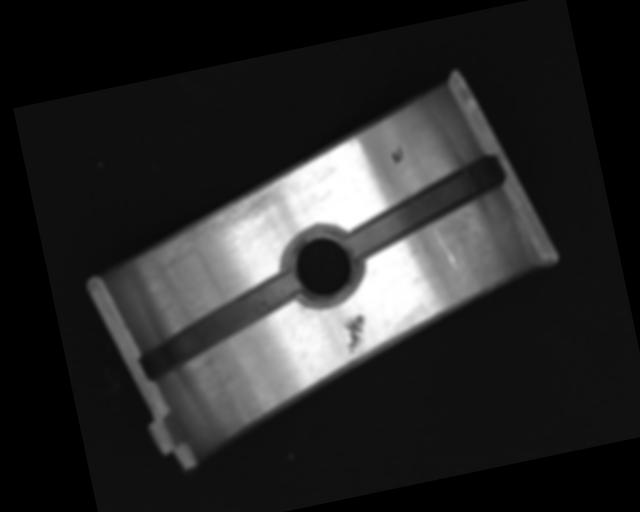blot: (389, 144, 405, 165)
bruise: (339, 313, 371, 356)
gap: (130, 271, 310, 380), (338, 155, 513, 258)
hole: (279, 220, 365, 311)
nick: (432, 223, 459, 273)
scratch: (136, 174, 298, 274)
